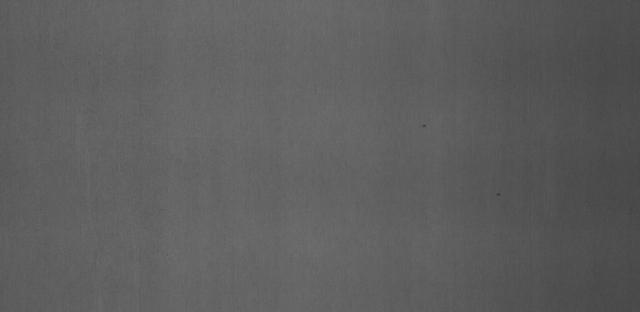inclusion: (413, 112, 437, 138), (488, 187, 510, 204)
